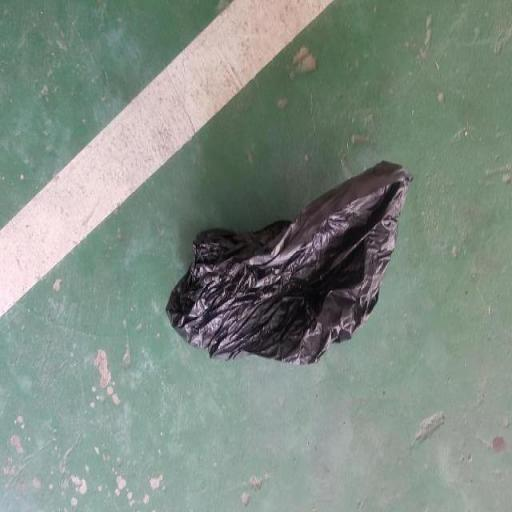plastic-bag: (166, 159, 415, 367)
